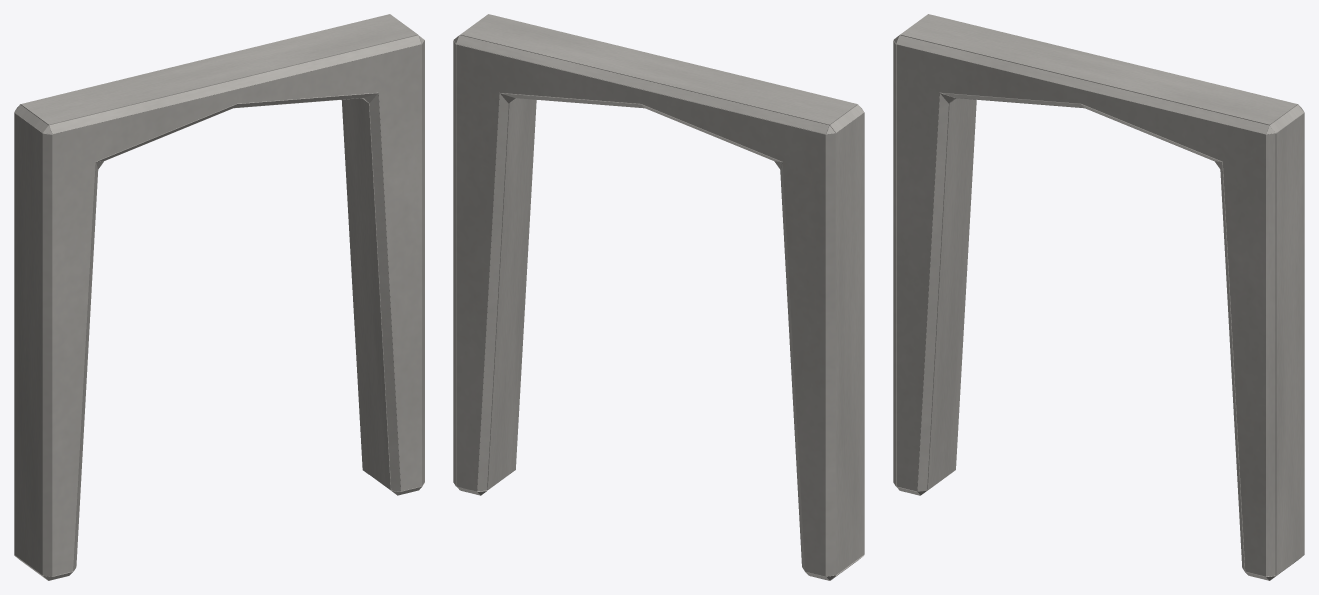
Rendered from 상인방빔.glb.
3 renders of one model, left to right at view 1: azimuth 30°, elevation 25°; view 2: azimuth 150°, elevation 25°; view 3: azimuth 330°, elevation 25°, orthographic.
Visible parts, largest first — view 1: 상인방빔_구움; view 2: 상인방빔_구움; view 3: 상인방빔_구움.
Boxes of the visible parts, x1,y1,x2,y2 form: 상인방빔_구움: (14, 14, 424, 580); 상인방빔_구움: (453, 14, 864, 580); 상인방빔_구움: (893, 14, 1304, 580).
Size of the model in its own units: 2.51 by 2.86 by 0.4076.
Materials: 1 (1 with a texture image).
